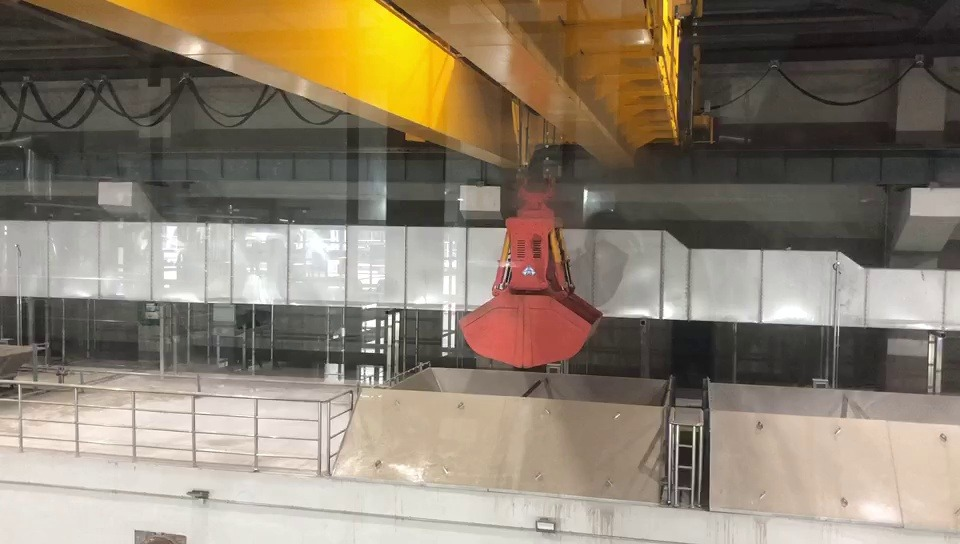grab: (450, 176, 608, 371)
